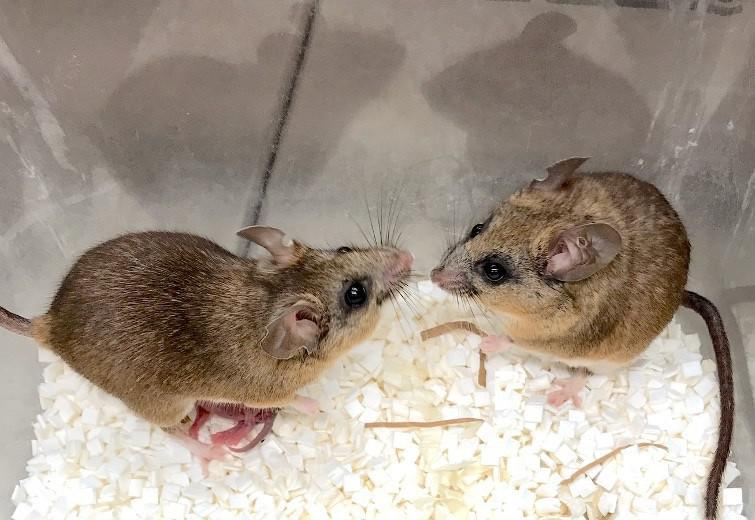rat: (429, 156, 735, 520), (0, 224, 413, 480)
